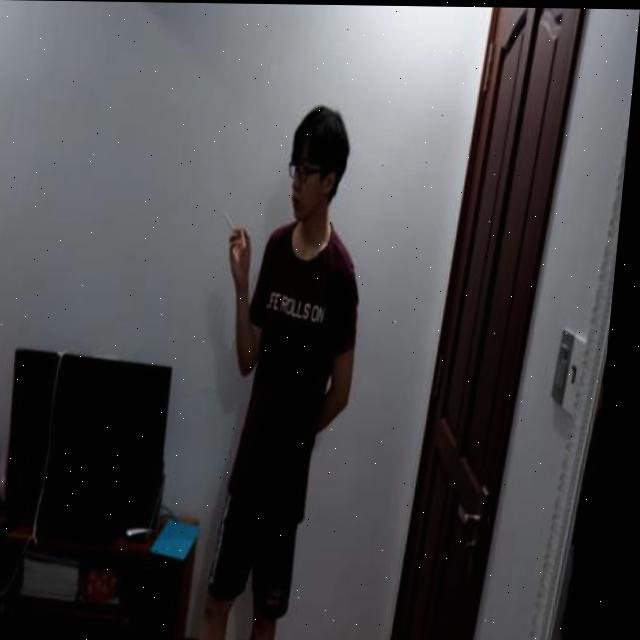cigarette: (227, 210, 242, 234)
